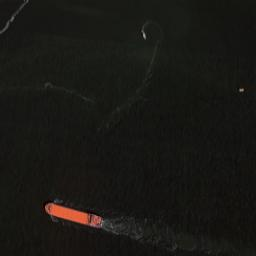boat: (44, 200, 102, 229), (140, 27, 146, 39), (238, 86, 243, 90)
